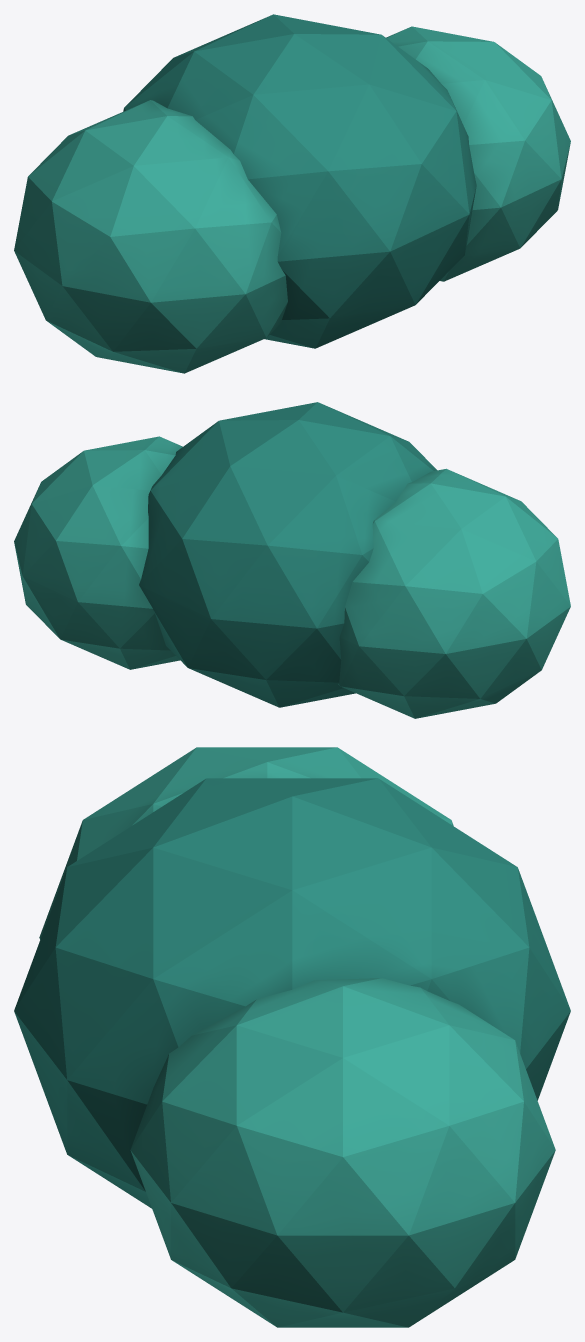
Rendered from StartKit_Bush.fbx.
The picture shows the model from 3 angles, top to bottom: view 1: azimuth 30°, elevation 25°; view 2: azimuth 150°, elevation 25°; view 3: azimuth 270°, elevation 25°; orthographic projection. The views are drawn at different scales.
Parts seen in each view (by area): view 1: Bush.001; view 2: Bush.001; view 3: Bush.001.
Boxes of the visible parts, x1,y1,x2,y2 form: Bush.001: (14,14,570,373); Bush.001: (14,402,570,718); Bush.001: (14,747,570,1327).
Bounding box in the file's own units: 1.78 × 0.935 × 1.1.
1 material, 1 textured.
